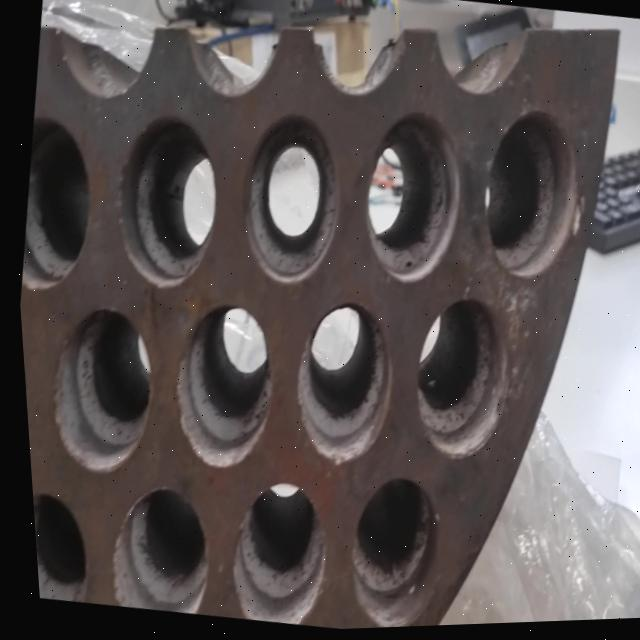Hole: (97, 107, 229, 296), (224, 106, 353, 294), (465, 104, 595, 289), (346, 104, 473, 293), (31, 297, 161, 481), (155, 295, 281, 477), (275, 295, 402, 474), (395, 293, 517, 469), (211, 475, 331, 632), (328, 471, 443, 631), (7, 112, 103, 297), (93, 480, 213, 619), (25, 483, 91, 604), (16, 309, 37, 474)
